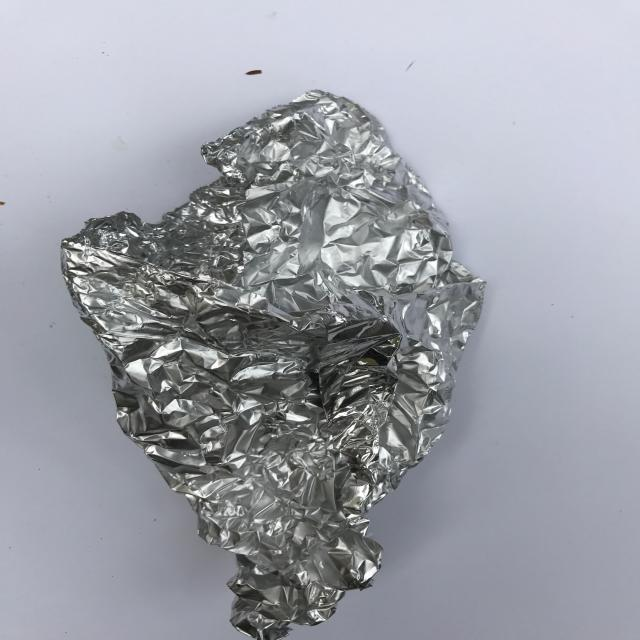metal: (53, 88, 488, 640)
